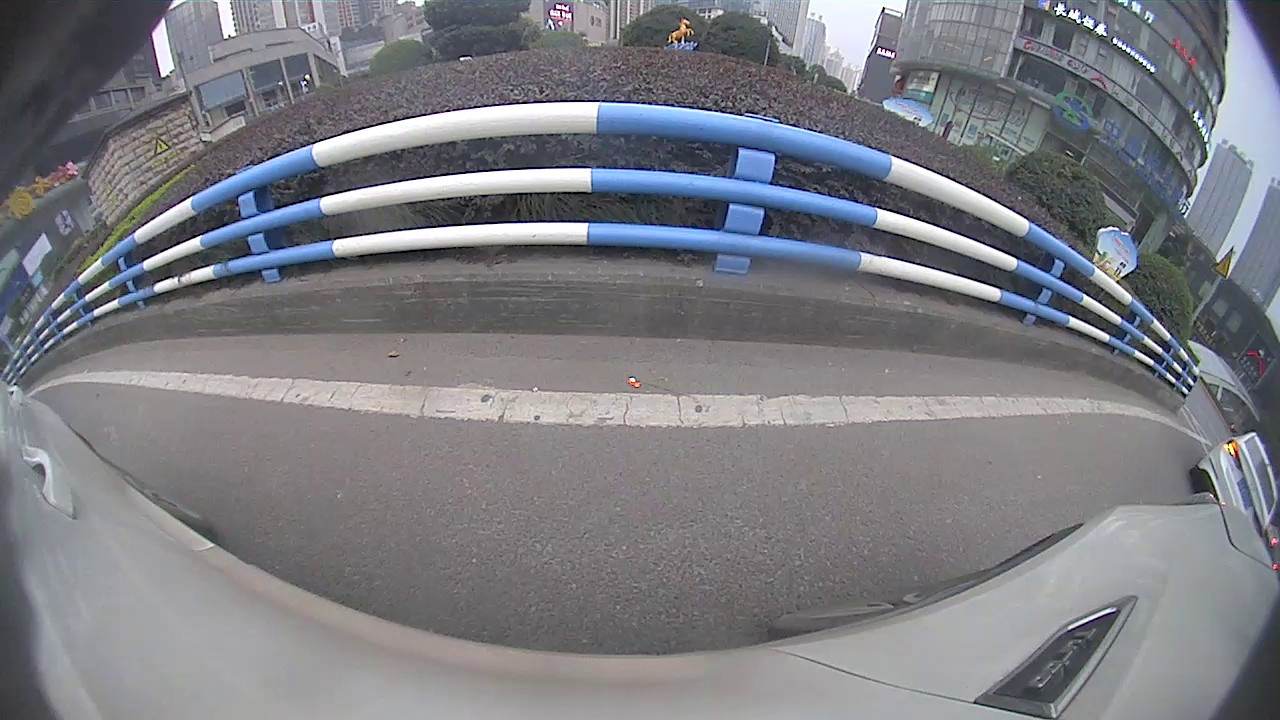car: (1187, 428, 1279, 540)
